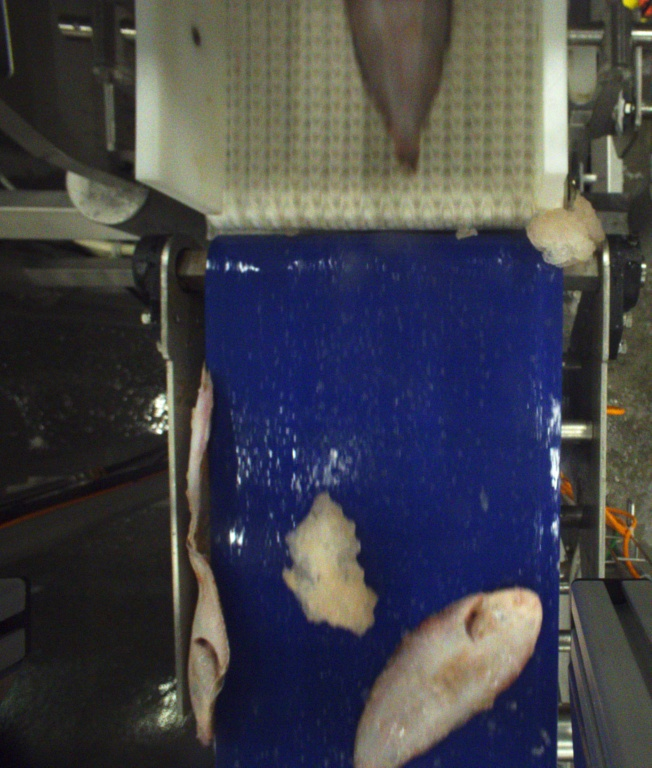SOL: (357, 586, 543, 768)
